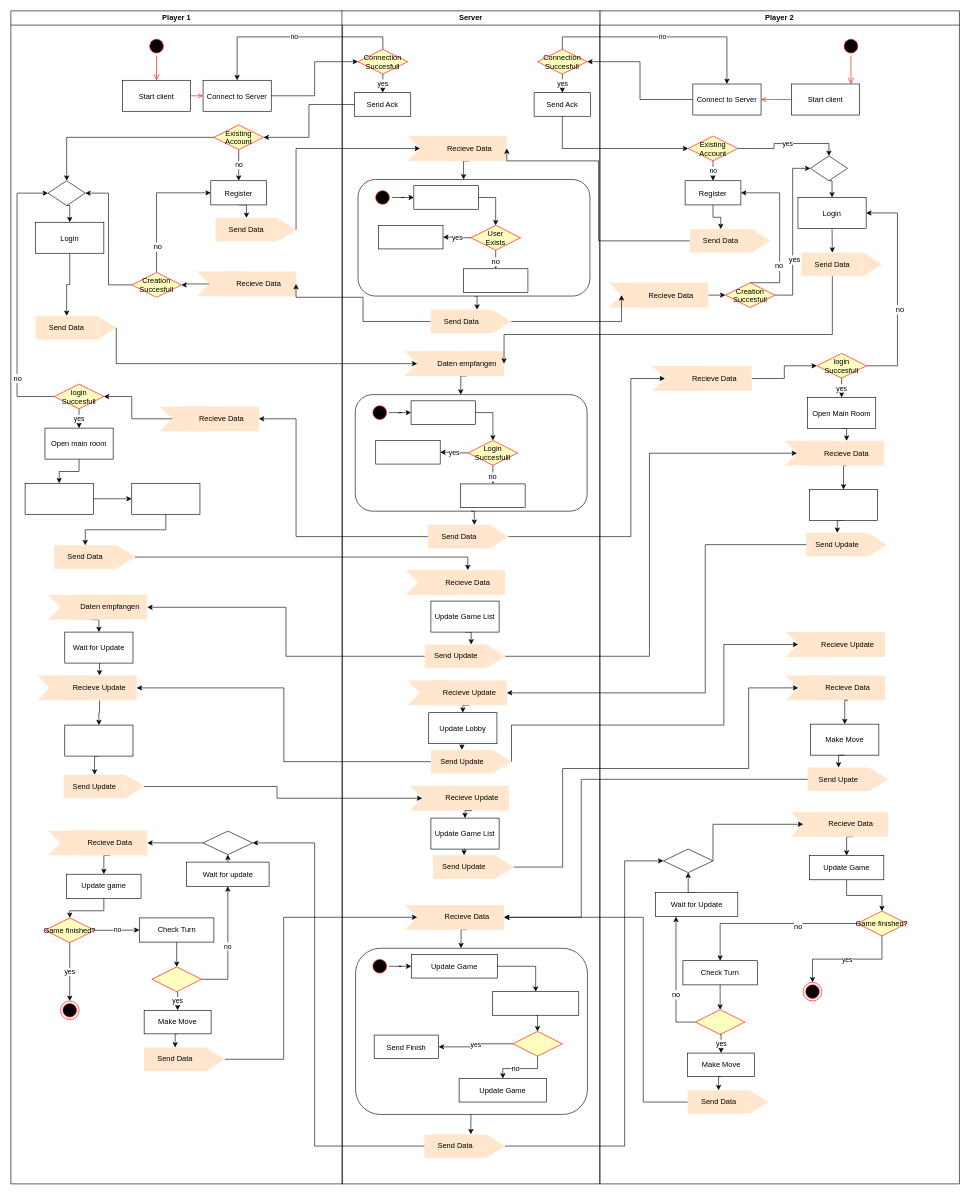
Some shapes in this 970 by 1195 pixel diagram are drawn without their labels. The centre of each missing label's shape, as x and y in pixels:
"Accept login" belongs at [492,495].
"Check for User" belongs at [445,197].
"Check Gamestate" belongs at [535,1003].
"Create game" belongs at [98,740].
"Create Lobby" belongs at [58,498].
"Create User" belongs at [495,280].
"Is there a winner?" belongs at [537,1043].
"Join Lobby" belongs at [843,504].
"Open Lobby" belongs at [165,498].
"Player 1's turn?" belongs at [176,979].
"Player 2's turn?" belongs at [720,1021].
"Reject Login" belongs at [407,452].
"Reject Registration" belongs at [410,237].
"Validate login" belongs at [443,412].
